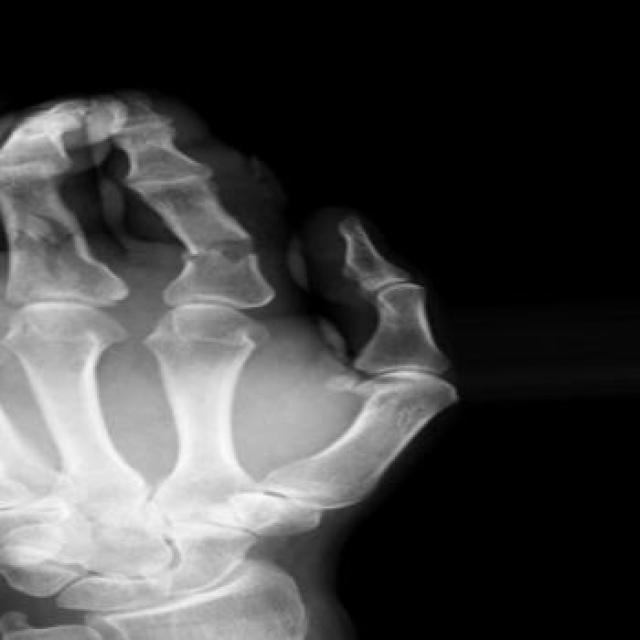Fracture: (0, 213, 104, 281), (171, 228, 277, 270)
